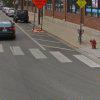Crosswalk: (5, 39, 100, 74)
